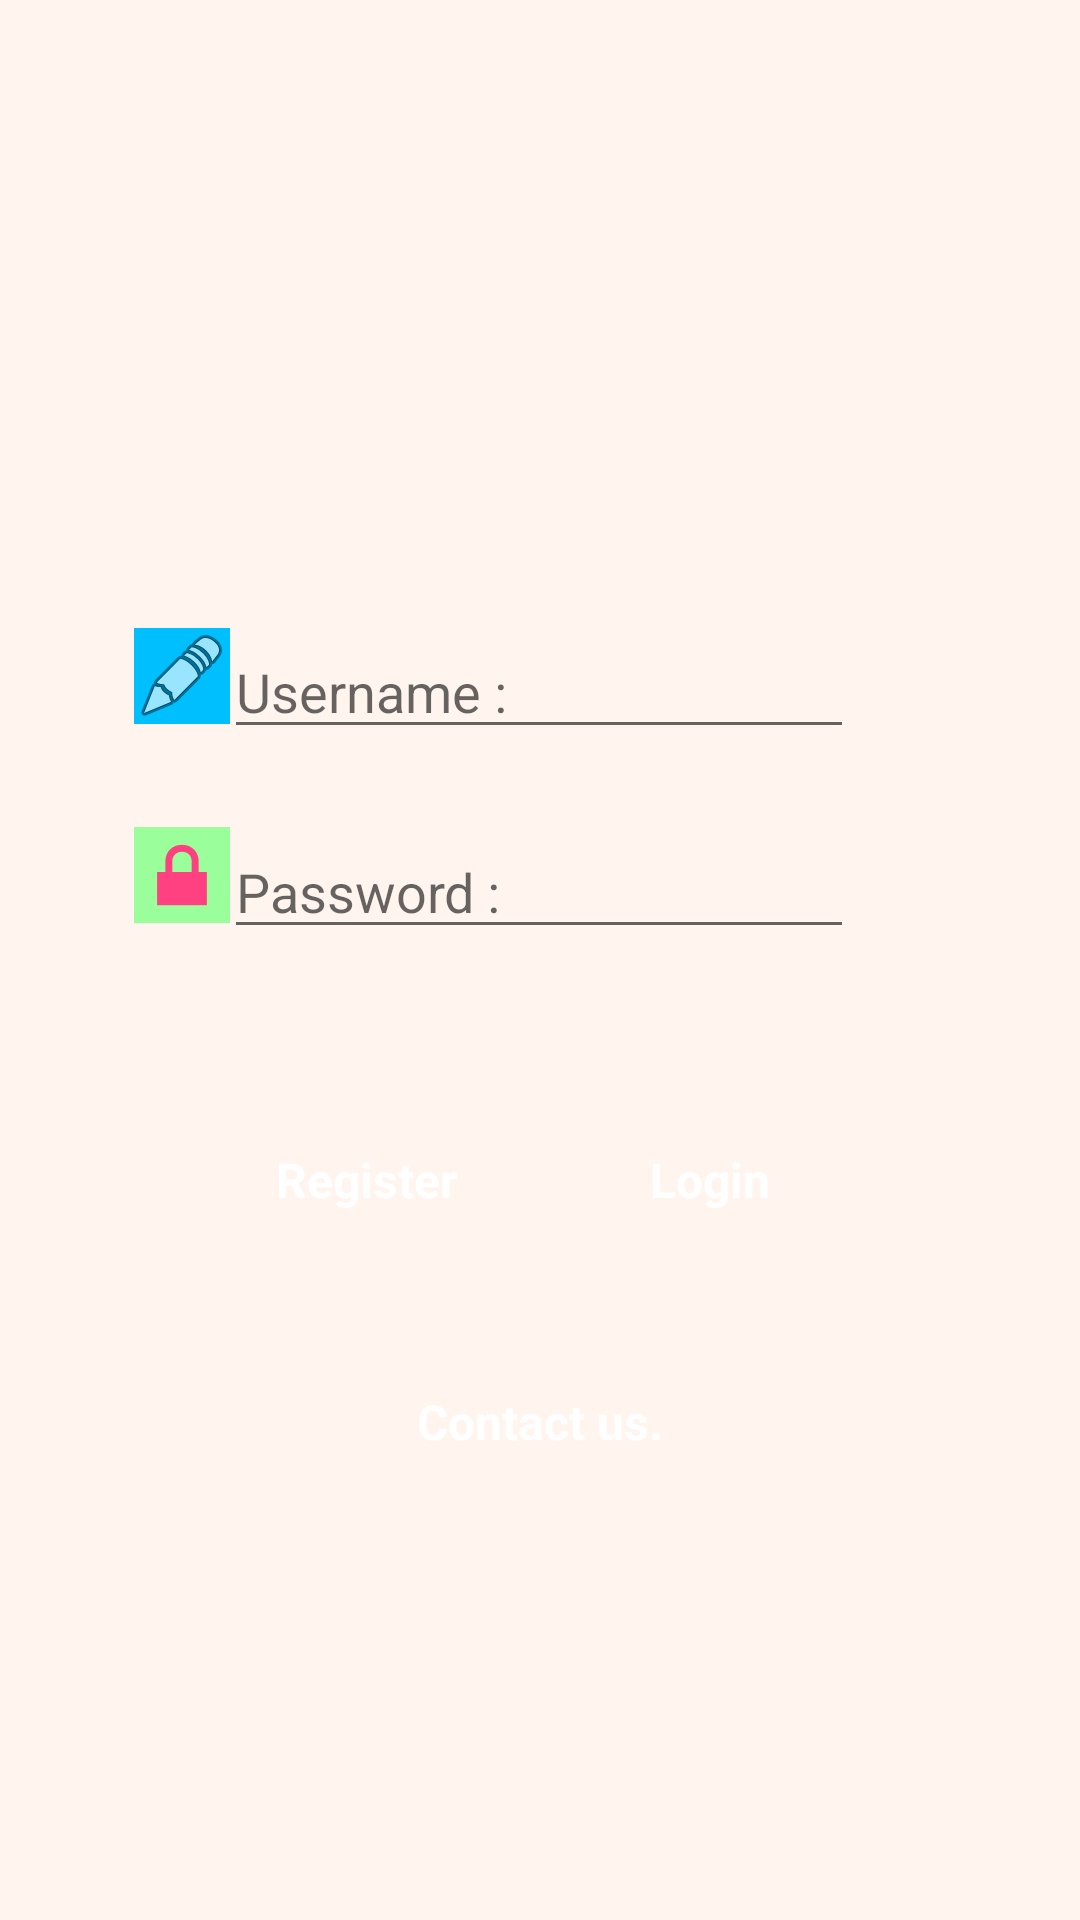

Icon click points for this 1080 x 1920 phone screenshot, format (x,y):
edit: (182,676)
lock: (182,875)
